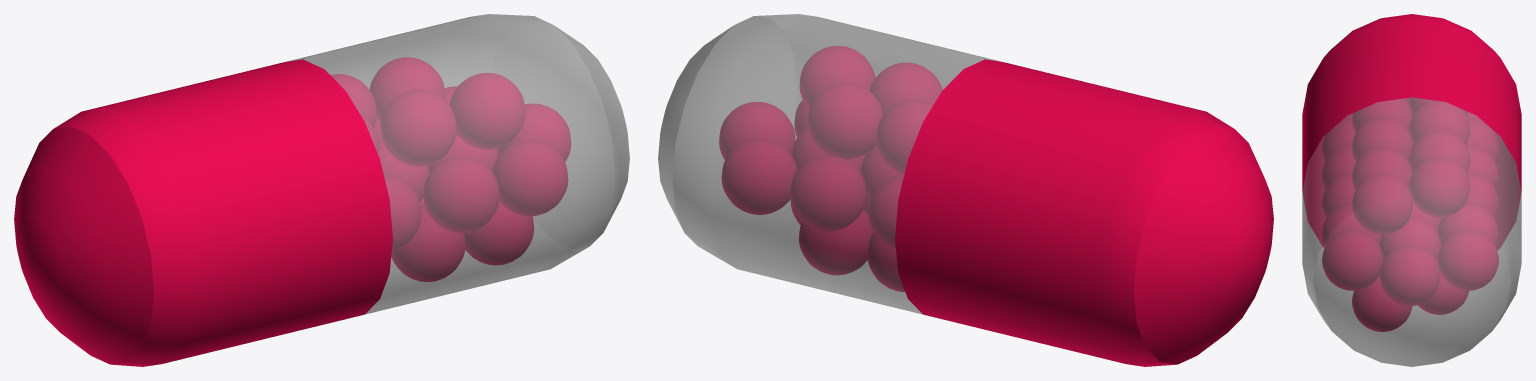
File: ANTIBIOTIC4.fbx
The picture shows the model from 3 angles, left to right: view 1: azimuth 30°, elevation 25°; view 2: azimuth 150°, elevation 25°; view 3: azimuth 270°, elevation 25°; orthographic projection. The views are drawn at different scales.
Visible parts, largest first — view 1: pSphere212; view 2: pSphere212; view 3: pSphere212.
Boxes of the visible parts, x1,y1,x2,y2 form: pSphere212: [14, 14, 629, 366]; pSphere212: [658, 14, 1273, 366]; pSphere212: [1302, 14, 1521, 366].
Bounding box in the file's own units: 5.35 × 2.09 × 2.18.
